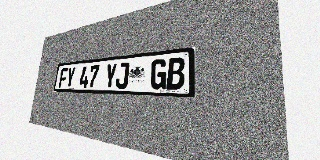4: (79, 66, 90, 88)
7: (88, 65, 100, 88)
B: (166, 57, 185, 90)
F: (58, 68, 68, 88)
G: (150, 59, 167, 89)
J: (115, 62, 129, 89)
Y: (104, 63, 117, 88), (65, 67, 76, 88)
